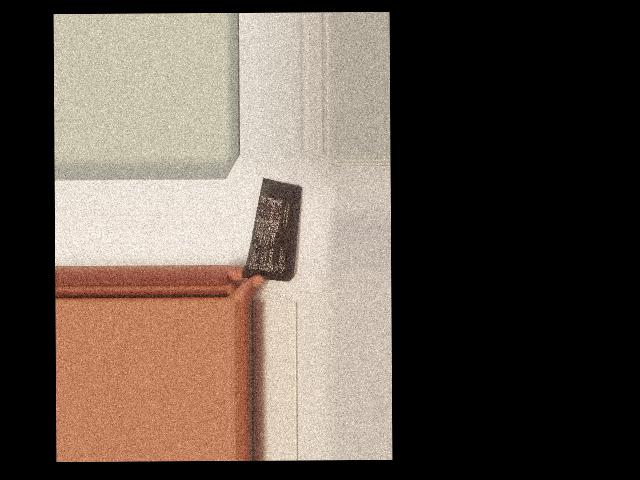chocolate: (237, 175, 304, 282)
